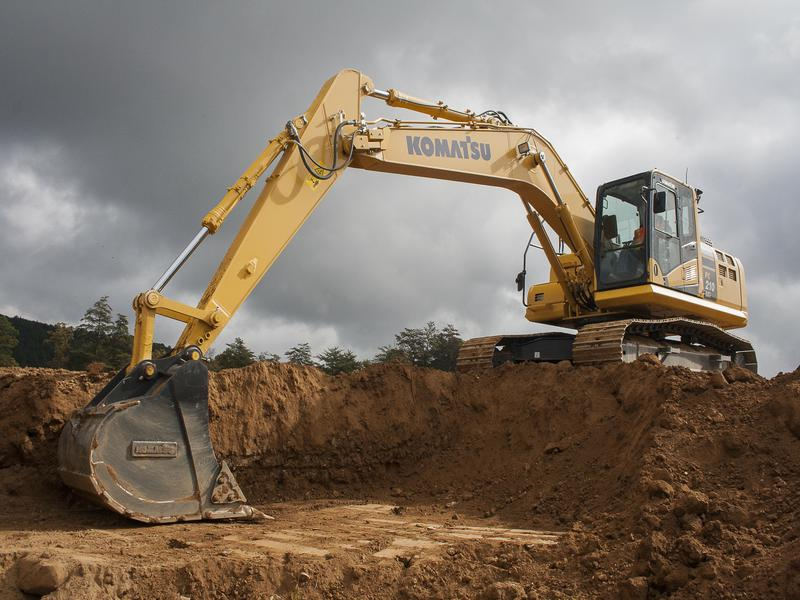shovel: (48, 67, 764, 531)
